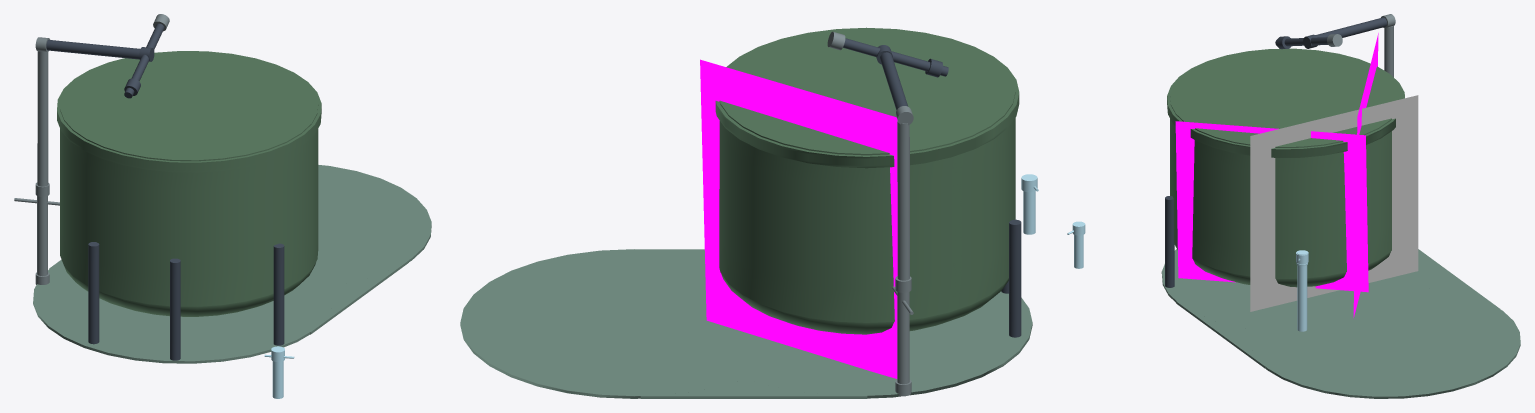
Rendered from Usecases_Additional2.gltf.
The picture shows the model from 3 angles, left to right: view 1: azimuth 30°, elevation 25°; view 2: azimuth 150°, elevation 25°; view 3: azimuth 270°, elevation 25°; orthographic projection. The views are drawn at different scales.
Visible parts, largest first — view 1: Cauldron3, Base7, Base8, CauldronRing3, CauldronBottom3, Cylinder28, Base9, Cylinder24, Cylinder25, Cylinder23, Cylinder26, Cylinder22 (+2 smaller); view 2: Cauldron3, Base8, BakedFluidsimData9, Base7, CauldronRing3, CauldronBottom3, Base9, Cylinder28, Cylinder24, Cylinder22, Cylinder27, Cylinder26 (+1 smaller); view 3: Cauldron3, Base8, BakedFluidsimData7, Base7, BakedFluidsimData8, CauldronRing3, Base9, CauldronBottom3, BakedFluidsimData9, Cylinder25, Cylinder20, Cylinder26 (+1 smaller).
Part boxes in pixels (box(x1,y1,x2,y2)): Cauldron3: box(60, 51, 318, 306); Base7: box(33, 260, 334, 363); Base8: box(315, 165, 431, 285); CauldronRing3: box(57, 51, 321, 172); CauldronBottom3: box(64, 263, 315, 316); Cylinder28: box(37, 51, 48, 186); Base9: box(49, 259, 408, 334); Cylinder24: box(88, 242, 99, 344); Cylinder25: box(273, 243, 284, 345); Cylinder23: box(170, 258, 180, 360); Cylinder26: box(46, 40, 140, 59); Cylinder22: box(37, 196, 47, 276); Cauldron3: box(719, 28, 1015, 322); Base8: box(460, 249, 745, 398); BakedFluidsimData9: box(700, 59, 897, 378); Base7: box(684, 289, 1032, 398); CauldronRing3: box(715, 27, 1019, 168); CauldronBottom3: box(721, 274, 1008, 334); Base9: box(640, 249, 867, 398); Cylinder28: box(897, 120, 909, 280); Cylinder24: box(1009, 219, 1021, 337); Cylinder22: box(897, 292, 909, 384); Cylinder27: box(843, 38, 948, 76); Cylinder26: box(880, 52, 908, 109); Cauldron3: box(1170, 48, 1402, 278); Base8: box(1249, 285, 1520, 398); BakedFluidsimData7: box(1250, 95, 1418, 311); Base7: box(1161, 249, 1432, 332); BakedFluidsimData8: box(1175, 121, 1368, 292); CauldronRing3: box(1167, 48, 1404, 157); Base9: box(1176, 249, 1499, 368); CauldronBottom3: box(1174, 244, 1390, 287); BakedFluidsimData9: box(1353, 33, 1378, 317); Cylinder25: box(1165, 196, 1174, 287); Cylinder20: box(1297, 265, 1307, 331); Cylinder26: box(1315, 17, 1387, 37).
Bounding box in the file's own units: 43.59 × 27.77 × 46.71.
